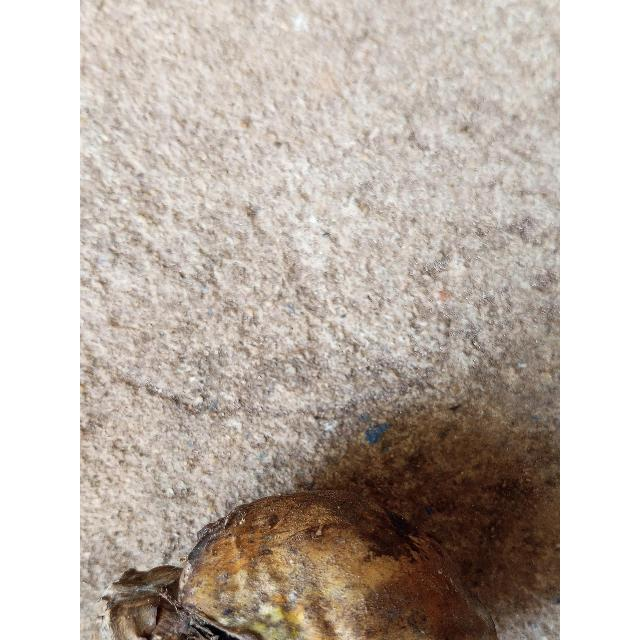damaged: (101, 491, 497, 640)
